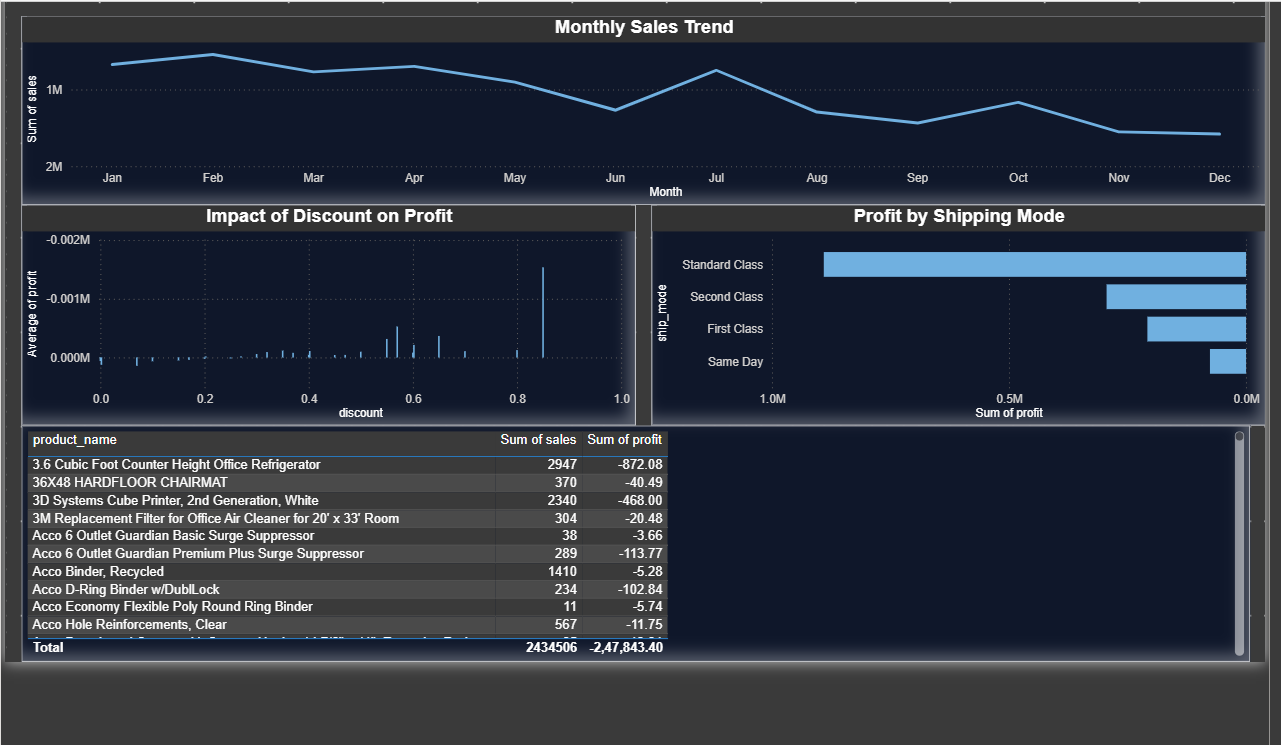

The dashboard page shown, as its layout file describes it:
{"tool":"powerbi","page":{"name":"Detailed Analysis","canvas":[1280,720],"ordinal":1},"visuals":[{"type":"lineChart","title":"Monthly Sales Trend","fields":{"Category":["Sales csv.Month"],"Y":["Sum(Sales csv.sales)"]},"box":[12.1,0,1255.3,221.1],"z":0},{"type":"barChart","title":"Profit by Shipping Mode","fields":{"Category":["Sales csv.ship_mode"],"Y":["Sum(Sales csv.profit)"]},"box":[640.5,231.7,628.4,231.7],"z":1000},{"type":"columnChart","title":"Impact of Discount on Profit","fields":{"Y":["Avg(Sales csv.profit)"],"Category":["Sales csv.discount"]},"box":[13.6,231.7,626.9,231.7],"z":2000},{"type":"tableEx","title":"Loss-Making Products","fields":{"Values":["Sales csv.product_name","Sum(Sales csv.sales)","Sum(Sales csv.profit)"]},"box":[16,480,1248,240],"z":3000}]}

Visuals, with their boxes on the page's 1280x720 design canvas (x1, y1, x2, y2). These are canvas units, not pixel positions in the 1281x745 screenshot, which may show the page scaled, cropped or inside an application window:
"Monthly Sales Trend" lineChart: bbox=[12, 0, 1267, 221]
"Profit by Shipping Mode" barChart: bbox=[640, 232, 1269, 463]
"Impact of Discount on Profit" columnChart: bbox=[14, 232, 640, 463]
"Loss-Making Products" tableEx: bbox=[16, 480, 1264, 720]
